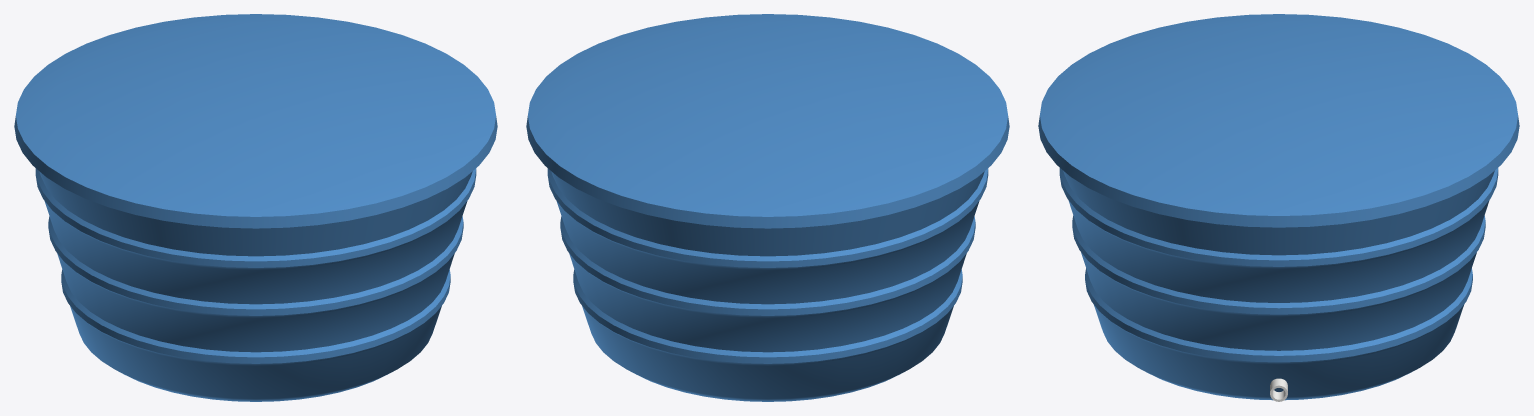
Rendered from HID-RES-002_lod1.glb.
3 views of the same model, side by side, from view 1: azimuth 30°, elevation 25°; view 2: azimuth 150°, elevation 25°; view 3: azimuth 270°, elevation 25° (orthographic).
Visible parts, largest first — view 1: HID-RES-002_tampa, HID-RES-002_corpo; view 2: HID-RES-002_tampa, HID-RES-002_corpo; view 3: HID-RES-002_tampa, HID-RES-002_corpo.
Boxes of the visible parts, bbox=[...] form: HID-RES-002_tampa: bbox=[14, 14, 497, 228]; HID-RES-002_corpo: bbox=[35, 168, 476, 401]; HID-RES-002_tampa: bbox=[526, 14, 1009, 228]; HID-RES-002_corpo: bbox=[547, 168, 988, 401]; HID-RES-002_tampa: bbox=[1038, 14, 1519, 227]; HID-RES-002_corpo: bbox=[1059, 168, 1498, 400].
Bounding box in the file's own units: 1.6 × 0.85 × 1.6.
